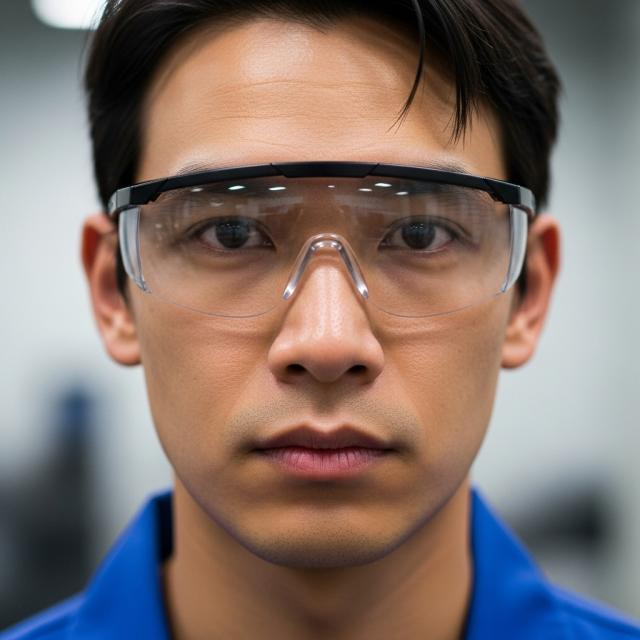oculos-epi: (110, 162, 534, 317)
